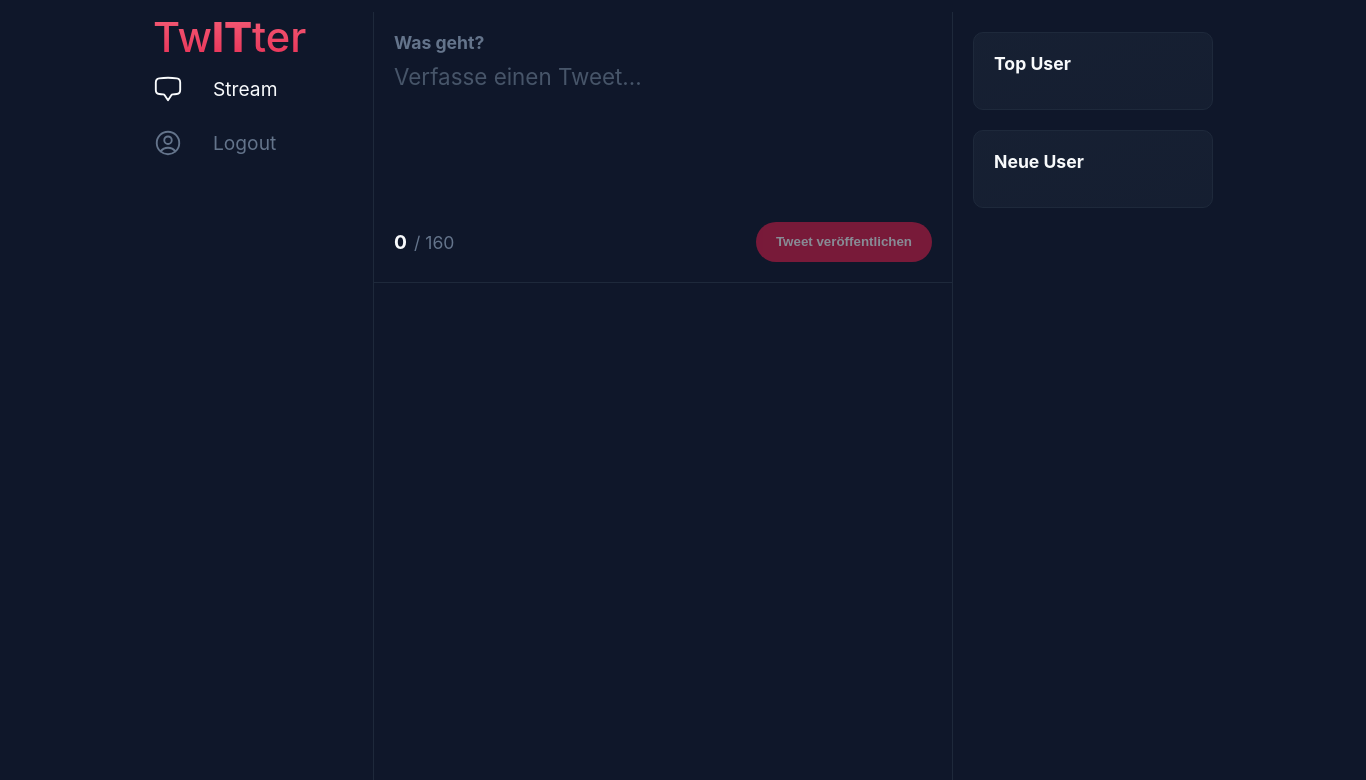
F5 › Ein Klick auf den Logout Link loggt den Benutzer aus
Click the link with class "logout-link": click(215, 143) [153, 128, 276, 158]
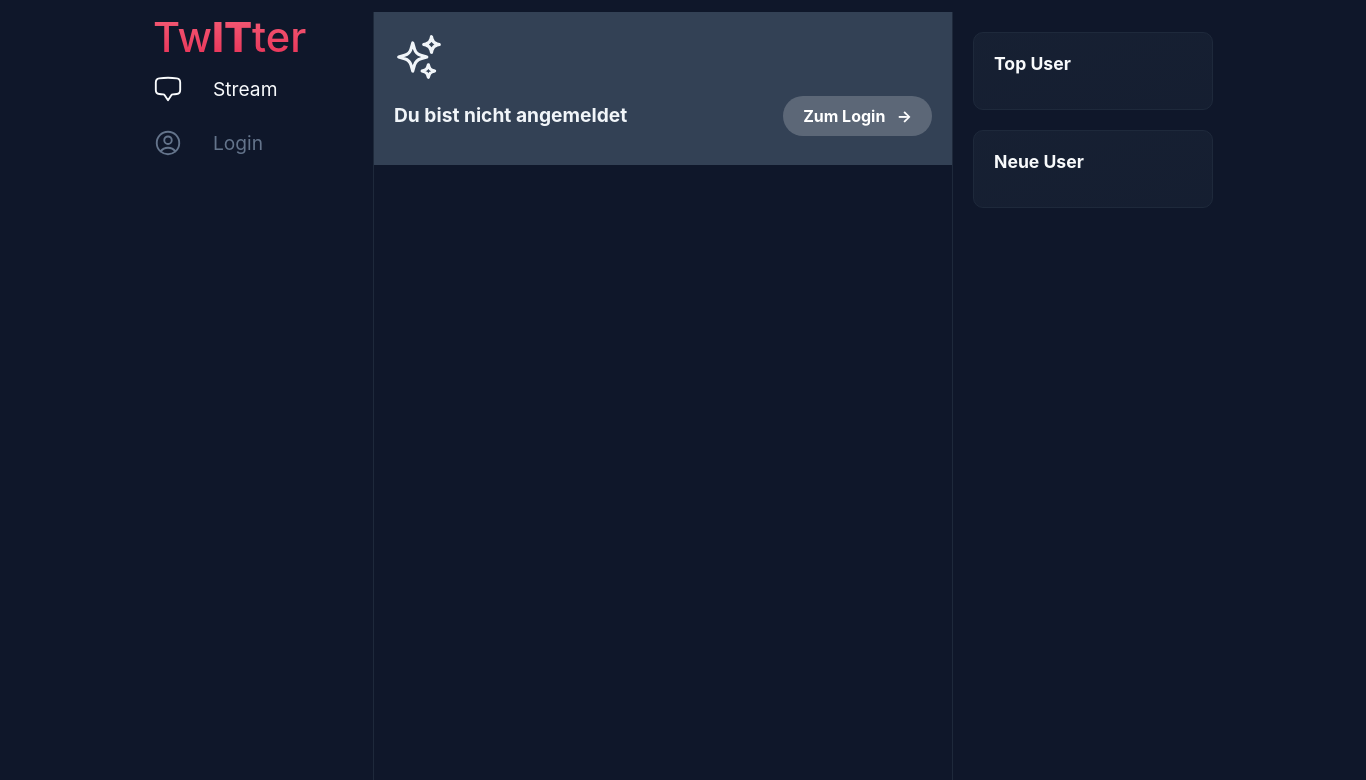
Result: the link with class "logout-link" is gone
